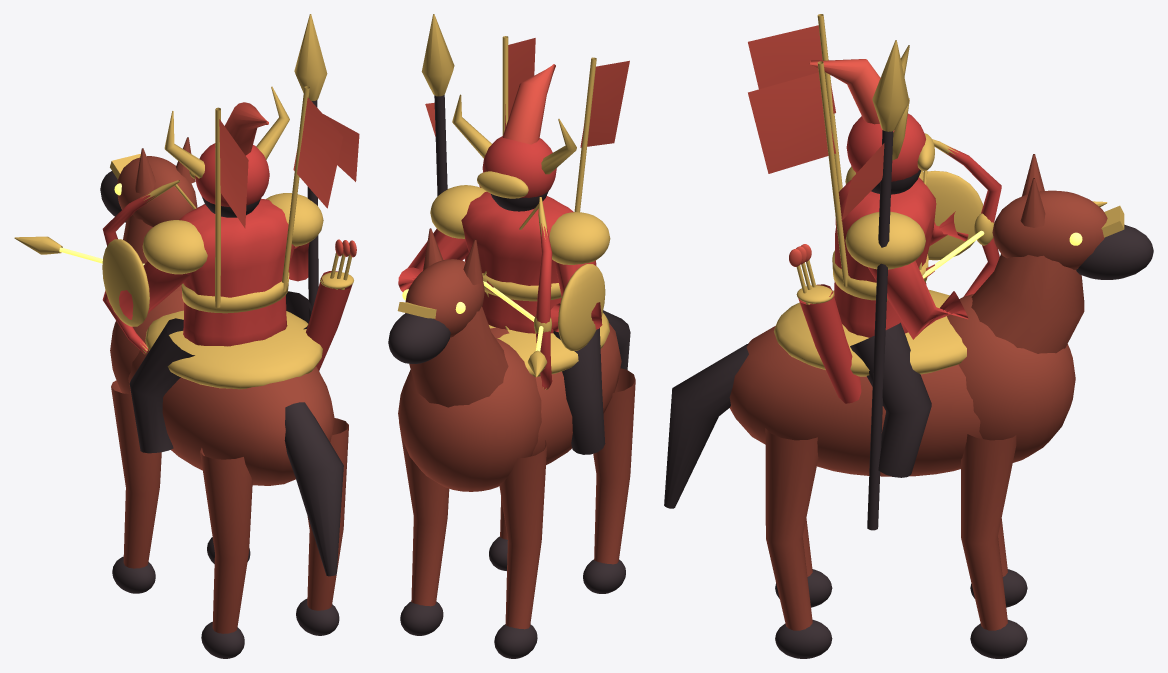
The model's file is TsenRider.fbx.
3 renders of one model, left to right at view 1: azimuth 30°, elevation 25°; view 2: azimuth 150°, elevation 25°; view 3: azimuth 270°, elevation 25°, orthographic. The views are drawn at different scales.
Parts seen in each view (by area): view 1: TsenRider; view 2: TsenRider; view 3: TsenRider.
Boxes of the visible parts, bbox=[...] form: TsenRider: bbox=[14, 14, 359, 658]; TsenRider: bbox=[388, 14, 635, 658]; TsenRider: bbox=[664, 14, 1153, 658].
Bounding box in the file's own units: 111 × 188 × 269.
